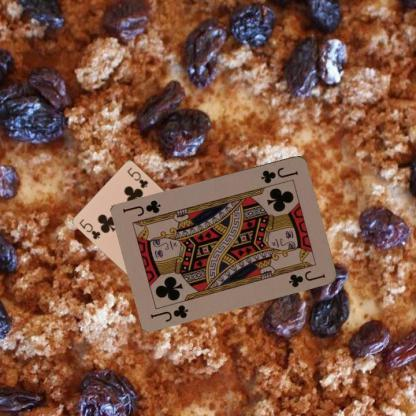5c: (77, 216, 102, 240)
Jc: (258, 164, 300, 185), (148, 302, 189, 323)
